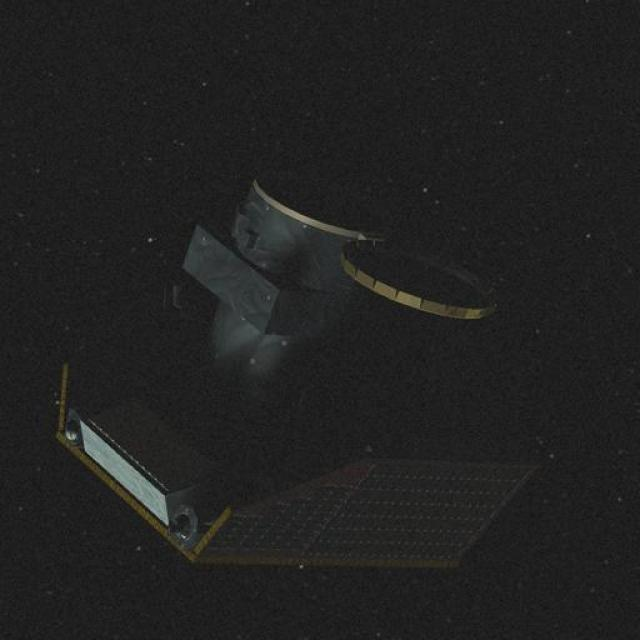debris: (49, 208, 510, 578)
